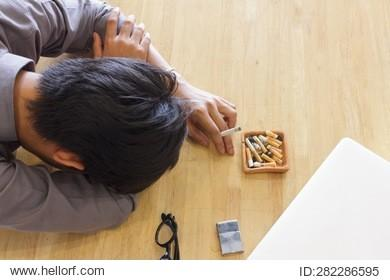Cigarette: (246, 134, 260, 162), (254, 137, 268, 153), (222, 126, 242, 136)
